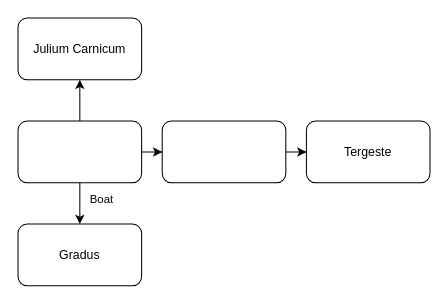
Image size: 448x304. Some labels were removed from this diagram. The centre of each missing label's shape, as x and y in pixels:
Aquileia: pixel 79 151
Timavo: pixel 223 151
